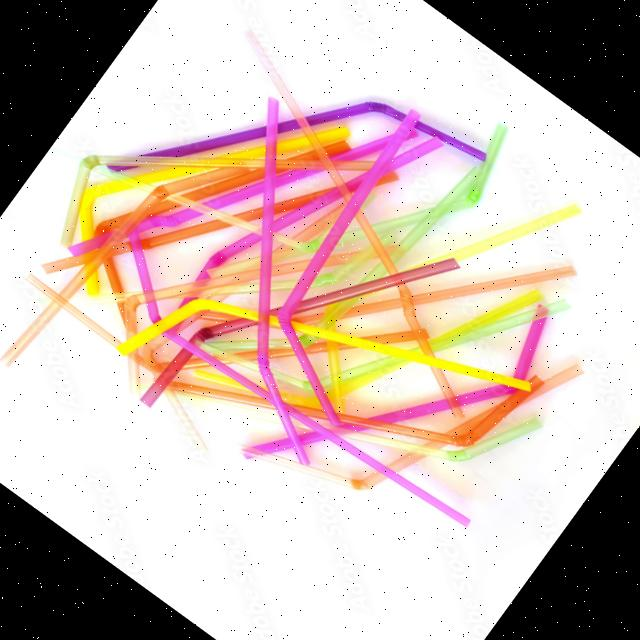plastic: (105, 249, 253, 400)
